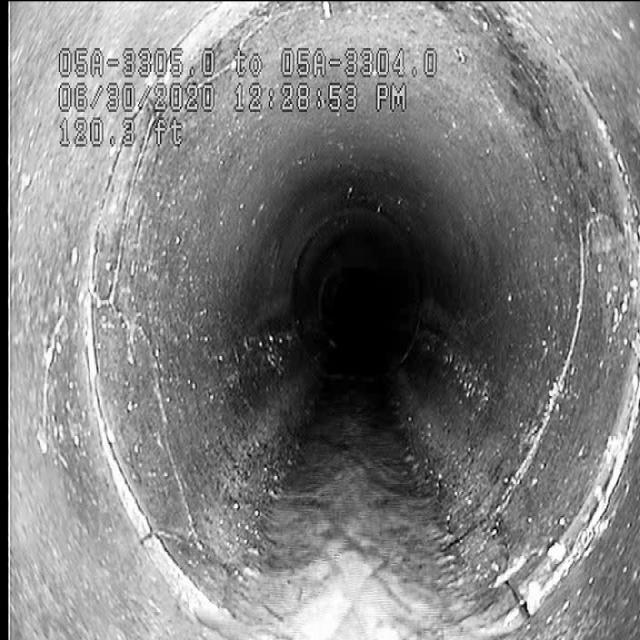Crack: (488, 208, 604, 514), (91, 246, 216, 494)
